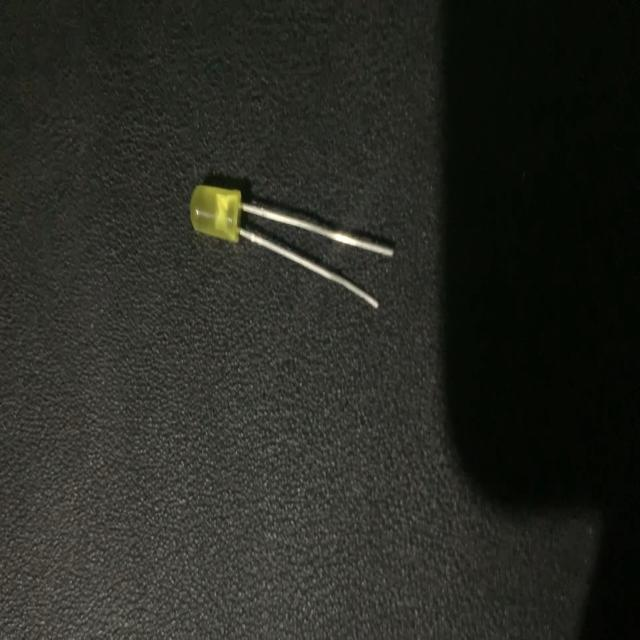LED: (186, 178, 394, 313)
